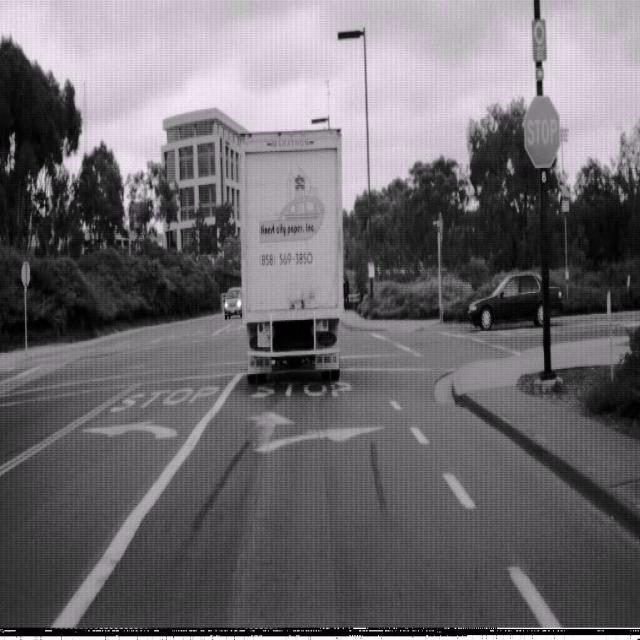stop: (523, 93, 561, 168)
